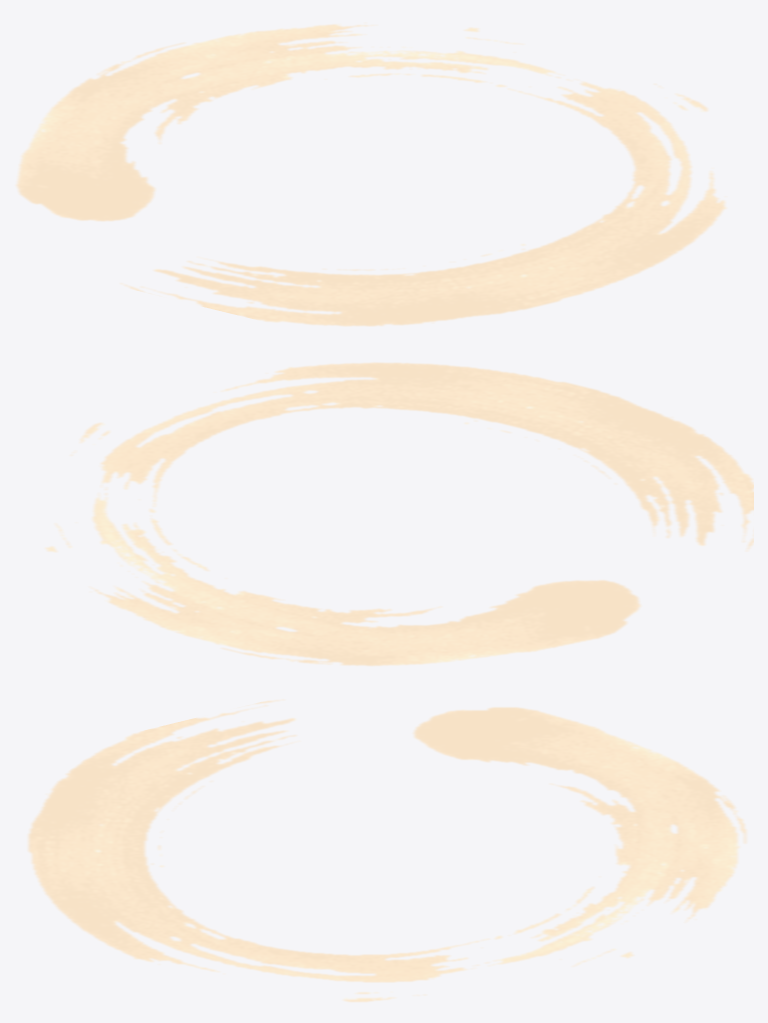
Rendered from Zen_sign.glb.
3 views of the same model, one above another, from view 1: azimuth 30°, elevation 25°; view 2: azimuth 150°, elevation 25°; view 3: azimuth 270°, elevation 25° (orthographic).
Visible parts, largest first — view 1: Soul_Ring.001; view 2: Soul_Ring.001; view 3: Soul_Ring.001.
Boxes of the visible parts, bbox=[...] form: Soul_Ring.001: bbox=[16, 24, 726, 326]; Soul_Ring.001: bbox=[45, 362, 753, 665]; Soul_Ring.001: bbox=[28, 700, 746, 1001].
Bounding box in the file's own units: 10.08 × 9.54e-07 × 10.08.
1 material, 1 textured.
